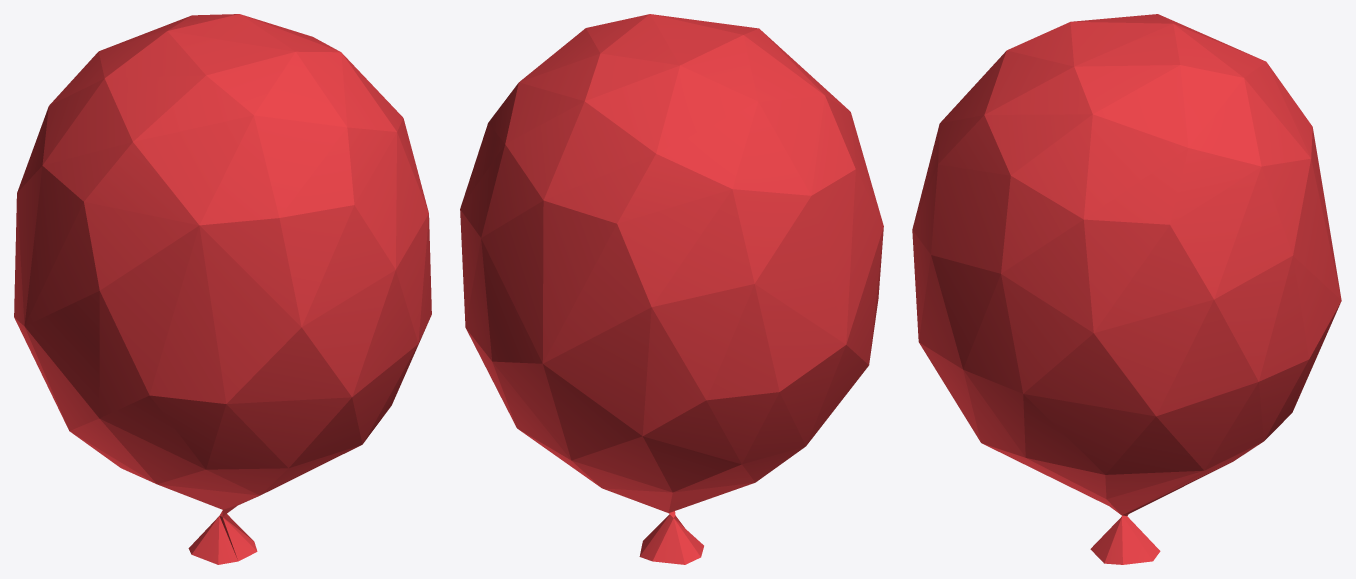
File: balloon.fbx
The picture shows the model from 3 angles, left to right: view 1: azimuth 30°, elevation 25°; view 2: azimuth 150°, elevation 25°; view 3: azimuth 270°, elevation 25°; orthographic projection.
Parts seen in each view (by area): view 1: mesh0; view 2: mesh0; view 3: mesh0.
Boxes of the visible parts, bbox=[...] form: mesh0: bbox=[14, 14, 431, 564]; mesh0: bbox=[460, 14, 883, 564]; mesh0: bbox=[912, 14, 1341, 564].
Bounding box in the file's own units: 4.03 × 5.31 × 4.03.
